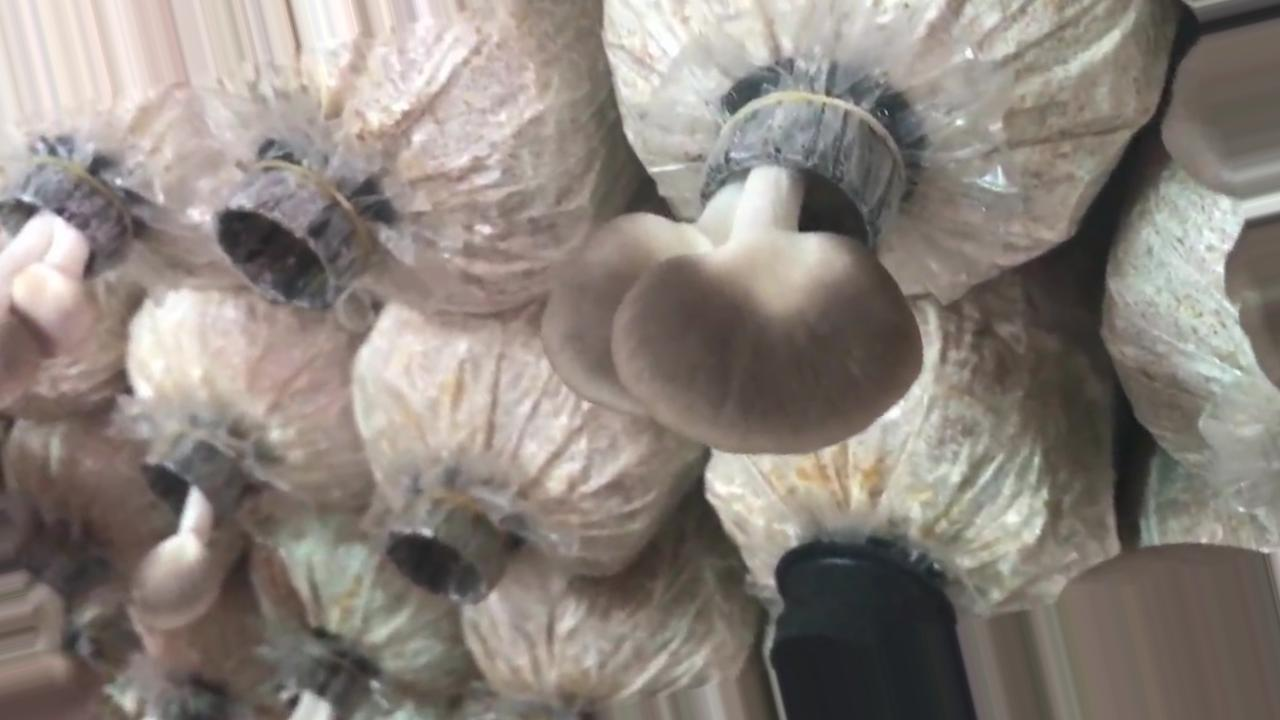nam: (539, 85, 925, 455), (131, 427, 245, 630)
